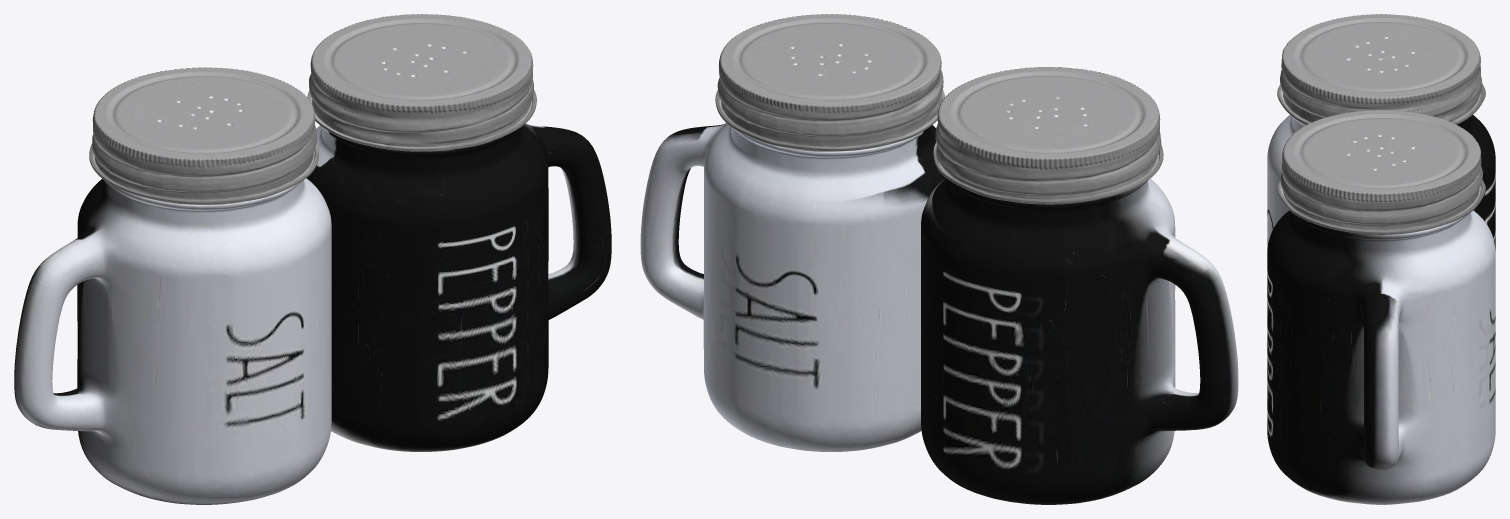
File: salt_pepper.glb
3 views of the same model, side by side, from view 1: azimuth 30°, elevation 25°; view 2: azimuth 150°, elevation 25°; view 3: azimuth 270°, elevation 25° (orthographic). The views are drawn at different scales.
Size of the model in its own units: 1.9 by 1.07 by 0.7061.
Materials: 1 (1 with a texture image).
